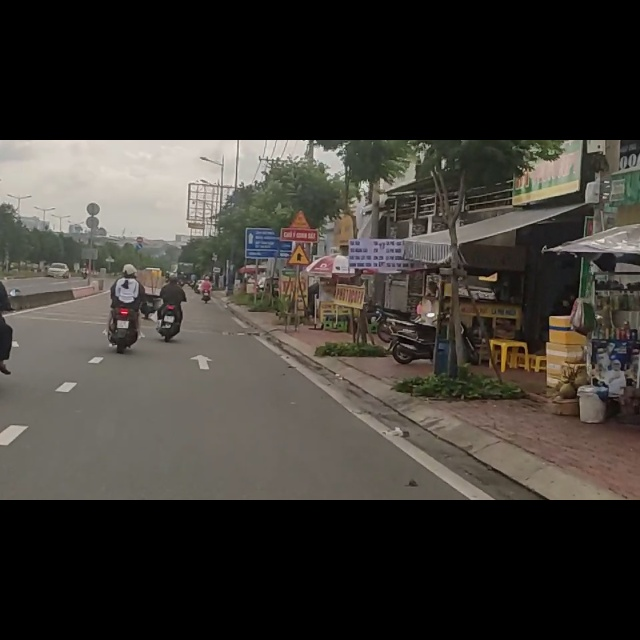bien_nguy_hiem: (284, 186, 315, 224)
